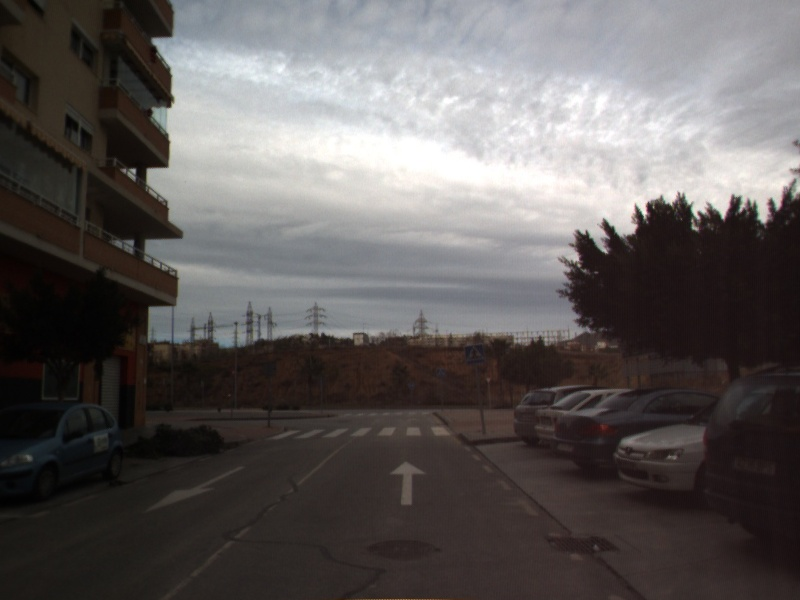STRAIGHT: (388, 459, 429, 507)
